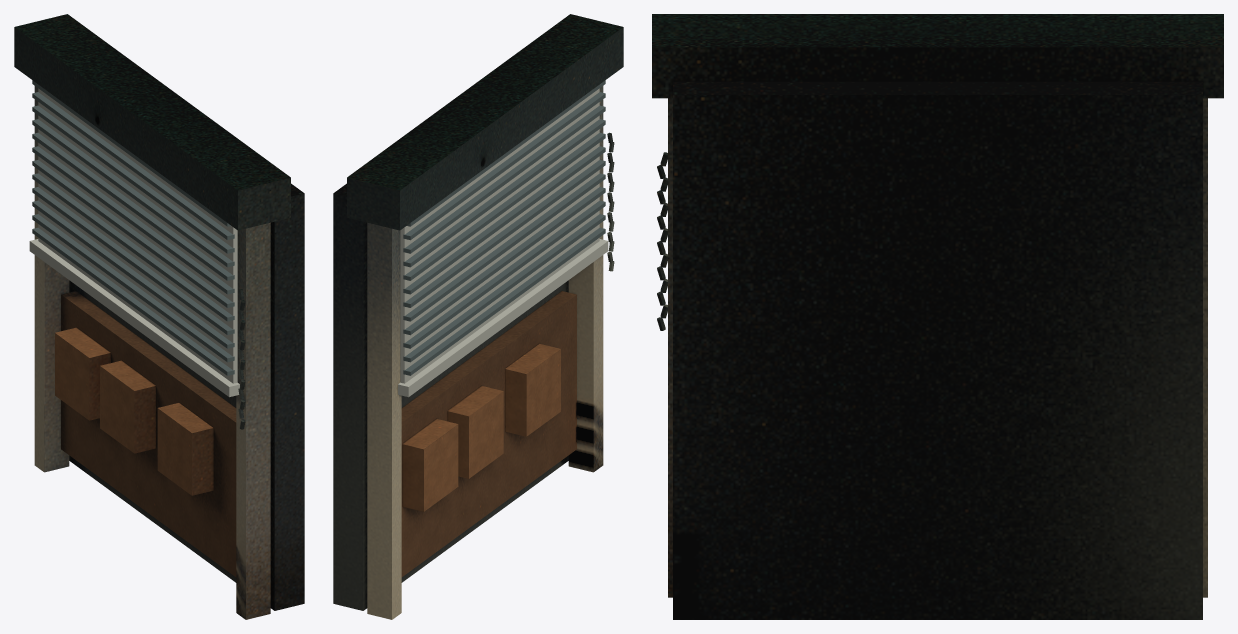
File: shutter.glb
3 views of the same model, side by side, from view 1: azimuth 30°, elevation 25°; view 2: azimuth 150°, elevation 25°; view 3: azimuth 270°, elevation 25° (orthographic). The views are drawn at different scales.
Parts seen in each view (by area): view 1: ShutterFrame, ShutterEdge; view 2: ShutterFrame, ShutterEdge; view 3: ShutterFrame.
Part boxes in pixels (x1,y1,x2,y2): ShutterFrame: (14,14,304,619); ShutterEdge: (29,80,239,397); ShutterFrame: (333,14,623,619); ShutterEdge: (398,80,608,397); ShutterFrame: (652,14,1223,619).
Size of the model in its own units: 0.45 by 2.52 by 2.33.
3 materials, 1 textured.
